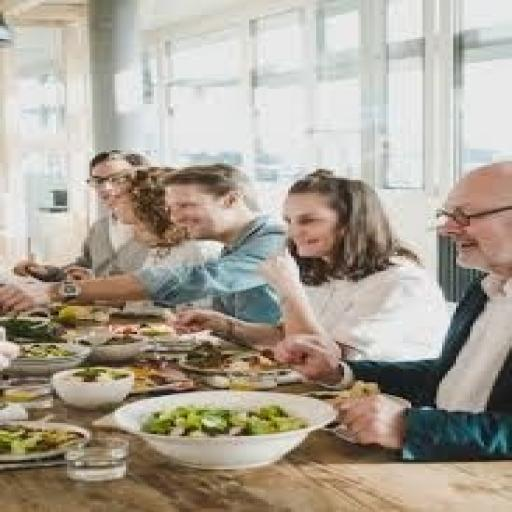eating: (3, 147, 509, 460), (272, 159, 510, 462)
